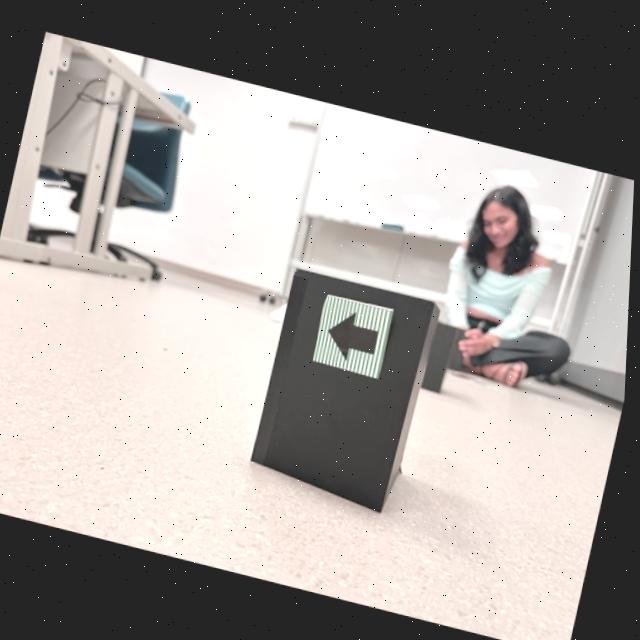LEFT: (330, 307, 380, 353)
